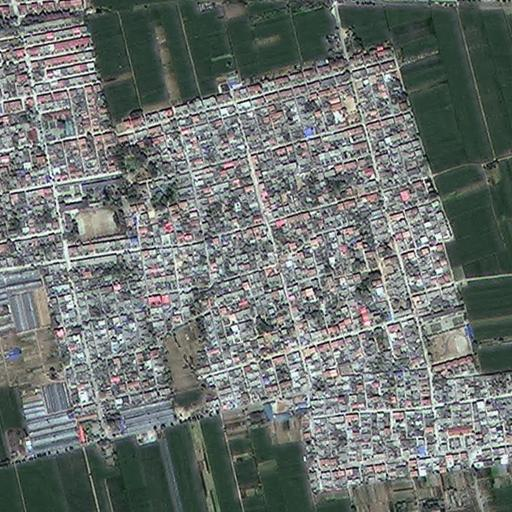school: (56, 174, 130, 238), (416, 307, 475, 364)
